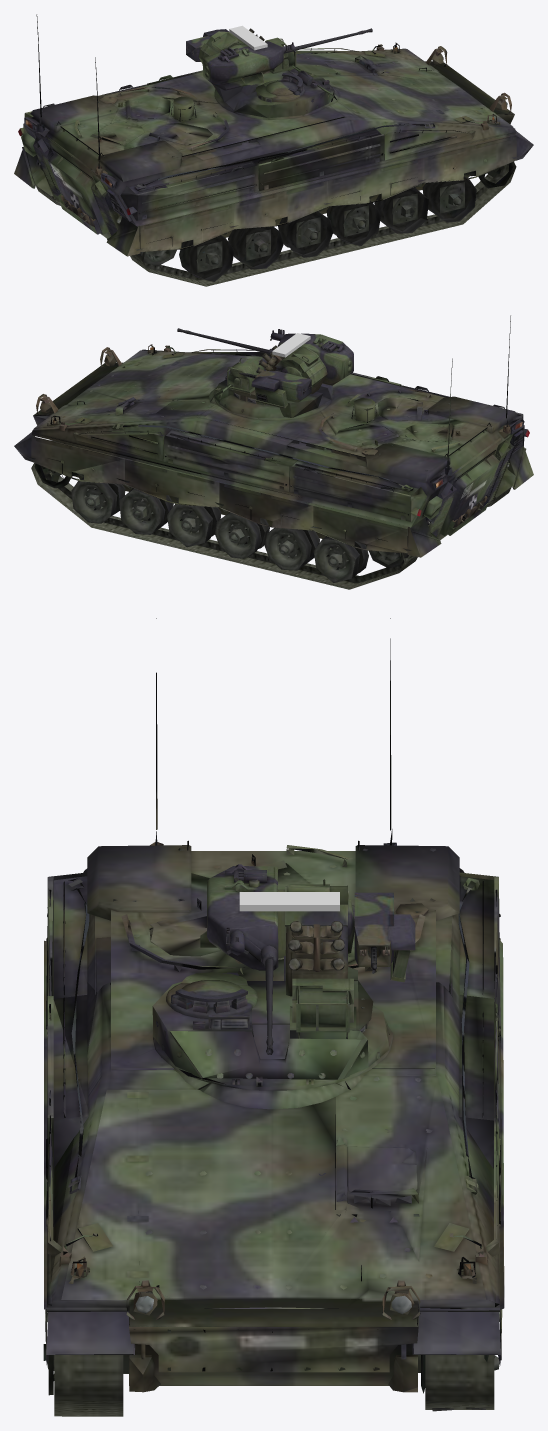
Rendered from marder.glb.
The picture shows the model from 3 angles, top to bottom: view 1: azimuth 30°, elevation 25°; view 2: azimuth 150°, elevation 25°; view 3: azimuth 270°, elevation 25°; orthographic projection. The views are drawn at different scales.
Visible parts, largest first — view 1: g_marder_hull, g_marder_turret; view 2: g_marder_hull, g_marder_turret, g_marder_gun; view 3: g_marder_hull, g_marder_turret, g_marder_gun.
Part boxes in pixels (left/top/right/bottom): g_marder_hull: left=14, top=14, right=533, bottom=286; g_marder_turret: left=186, top=25, right=332, bottom=112; g_marder_hull: left=14, top=315, right=533, bottom=589; g_marder_turret: left=215, top=329, right=353, bottom=412; g_marder_gun: left=177, top=328, right=273, bottom=355; g_marder_hull: left=43, top=618, right=504, bottom=1416; g_marder_turret: left=155, top=864, right=415, bottom=1086; g_marder_gun: left=260, top=945, right=278, bottom=1054.
Size of the model in its own units: 6.88 by 3.7 by 3.32.
Materials: 4 (3 with a texture image).
